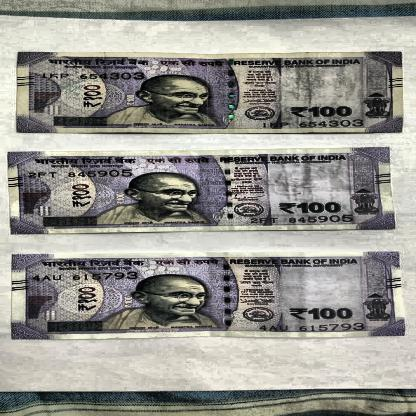Rs100: (272, 198, 350, 217), (286, 304, 361, 323), (283, 103, 360, 121)
